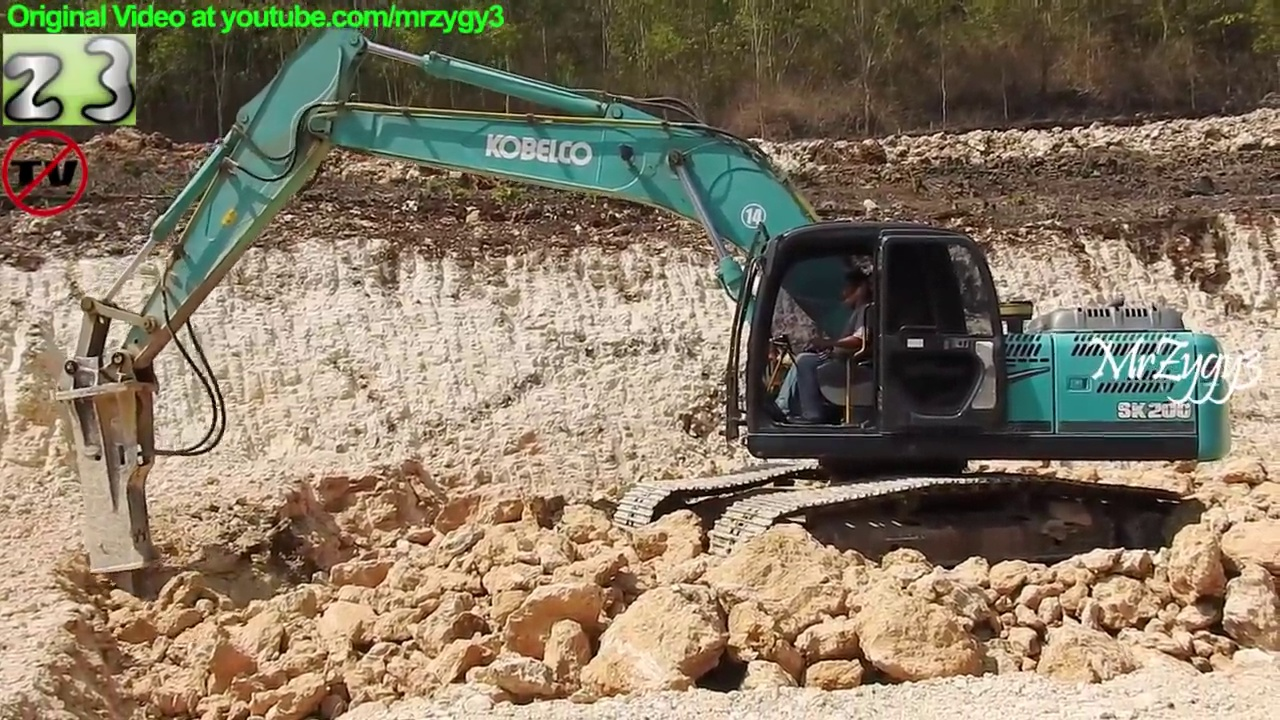excavator breaker: (46, 21, 1233, 600)
